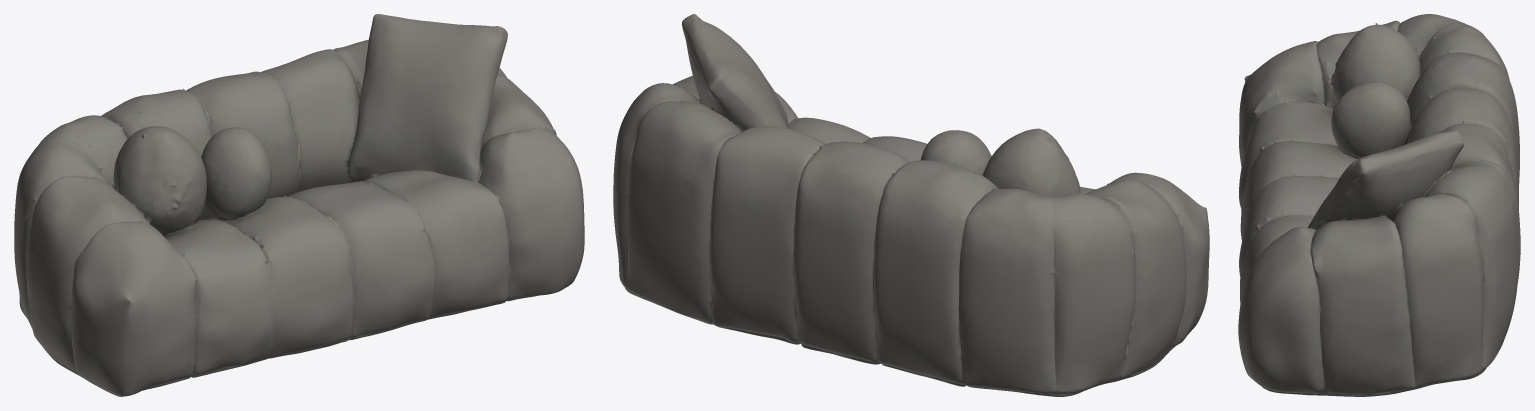
The picture shows the model from 3 angles, left to right: view 1: azimuth 30°, elevation 25°; view 2: azimuth 150°, elevation 25°; view 3: azimuth 270°, elevation 25°; orthographic projection. The views are drawn at different scales.
Parts seen in each view (by area): view 1: tripo_node_1abf2a0f-7762-4cc0-816e-8df8cc81c0ec; view 2: tripo_node_1abf2a0f-7762-4cc0-816e-8df8cc81c0ec; view 3: tripo_node_1abf2a0f-7762-4cc0-816e-8df8cc81c0ec.
Part boxes in pixels (left/top/right/bottom): tripo_node_1abf2a0f-7762-4cc0-816e-8df8cc81c0ec: left=14, top=14, right=584, bottom=396; tripo_node_1abf2a0f-7762-4cc0-816e-8df8cc81c0ec: left=613, top=14, right=1209, bottom=396; tripo_node_1abf2a0f-7762-4cc0-816e-8df8cc81c0ec: left=1238, top=14, right=1520, bottom=396.
Bounding box in the file's own units: 1.6 × 0.7 × 0.8.
1 material, 1 textured.
